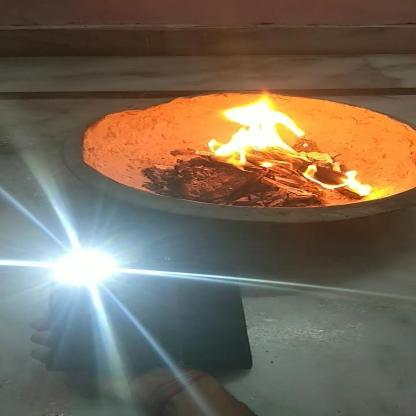fire: (209, 89, 306, 163), (336, 168, 375, 198)
